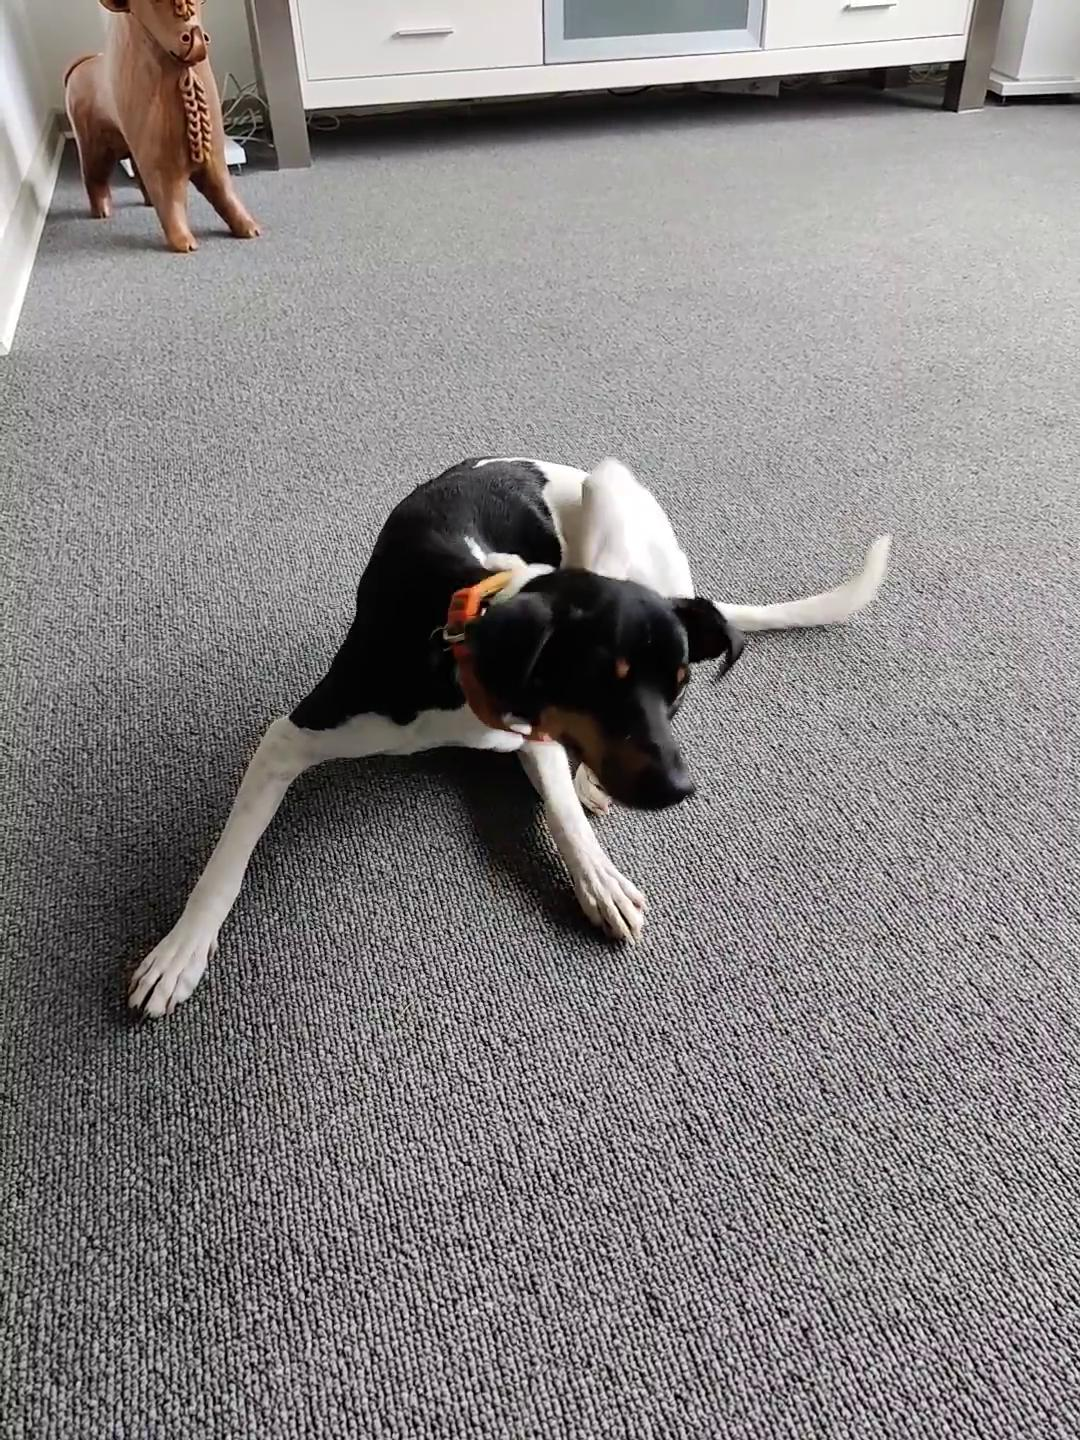Dog: (107, 435, 913, 1032)
